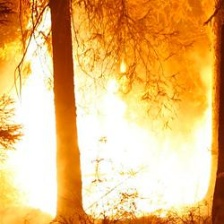fire: (16, 58, 214, 218)
